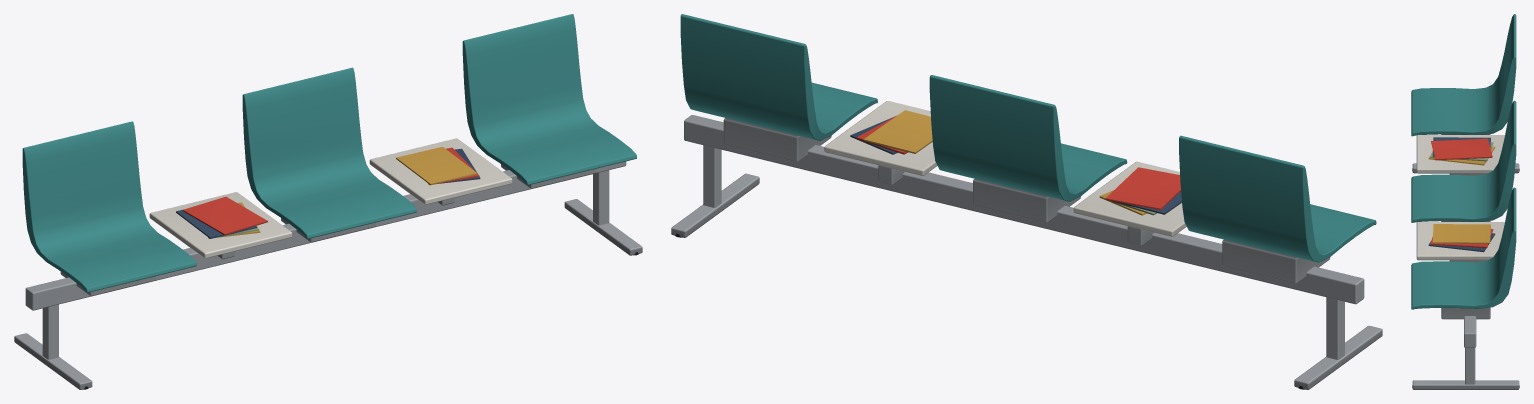
File: waitingBench.glb
The picture shows the model from 3 angles, left to right: view 1: azimuth 30°, elevation 25°; view 2: azimuth 150°, elevation 25°; view 3: azimuth 270°, elevation 25°; orthographic projection. The views are drawn at different scales.
Visible parts, largest first — view 1: bench; view 2: bench; view 3: bench.
Boxes of the visible parts, box(x1,y1,x2,y2) form: bench: box(14, 14, 642, 389); bench: box(671, 14, 1382, 389); bench: box(1411, 14, 1519, 389).
Size of the model in its own units: 2.7 by 0.8461 by 0.5284.
